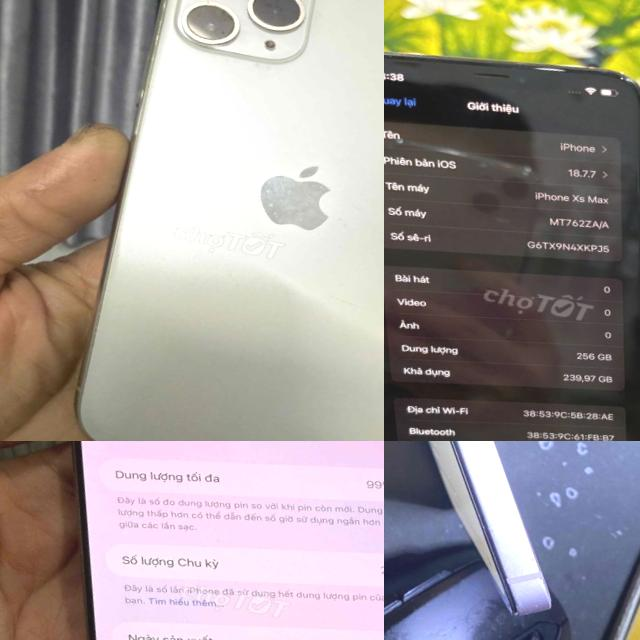gen_11: (44, 0, 384, 441)
gen_12_13: (384, 441, 640, 638)
gen_16: (71, 441, 384, 640)
gen_x_xs: (384, 52, 640, 441)
scratch: (167, 133, 384, 264), (128, 0, 197, 130), (64, 302, 115, 400)
